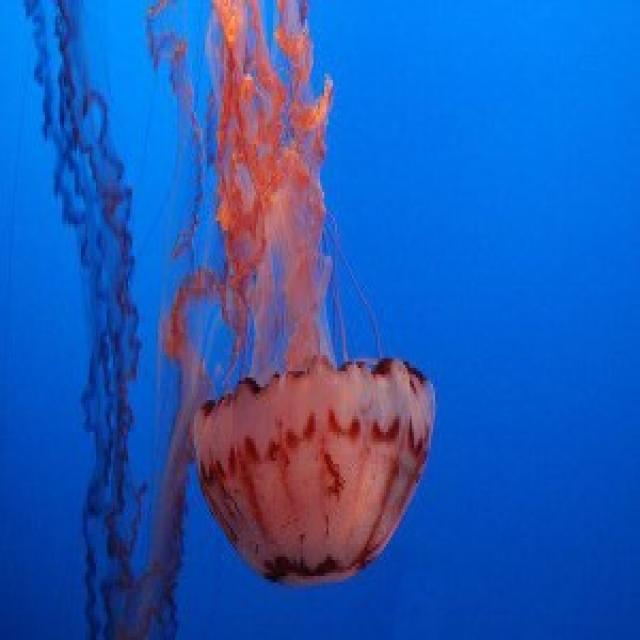Jellyfish: (183, 0, 459, 594), (40, 104, 190, 637)
